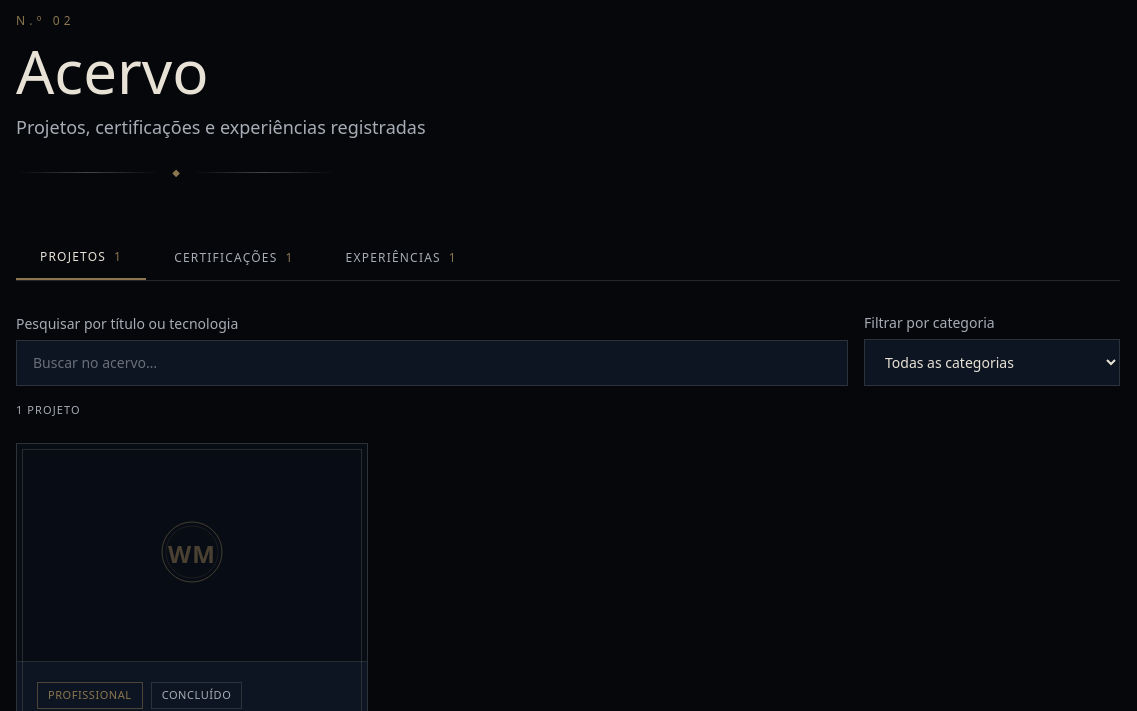
Test: ArchiveSection tabs › switches to certifications
What coordinates should you click on to do the following:
click the tab "Certificações1"
I would click on:
 (234, 258)
Its box is [150,236,318,280].
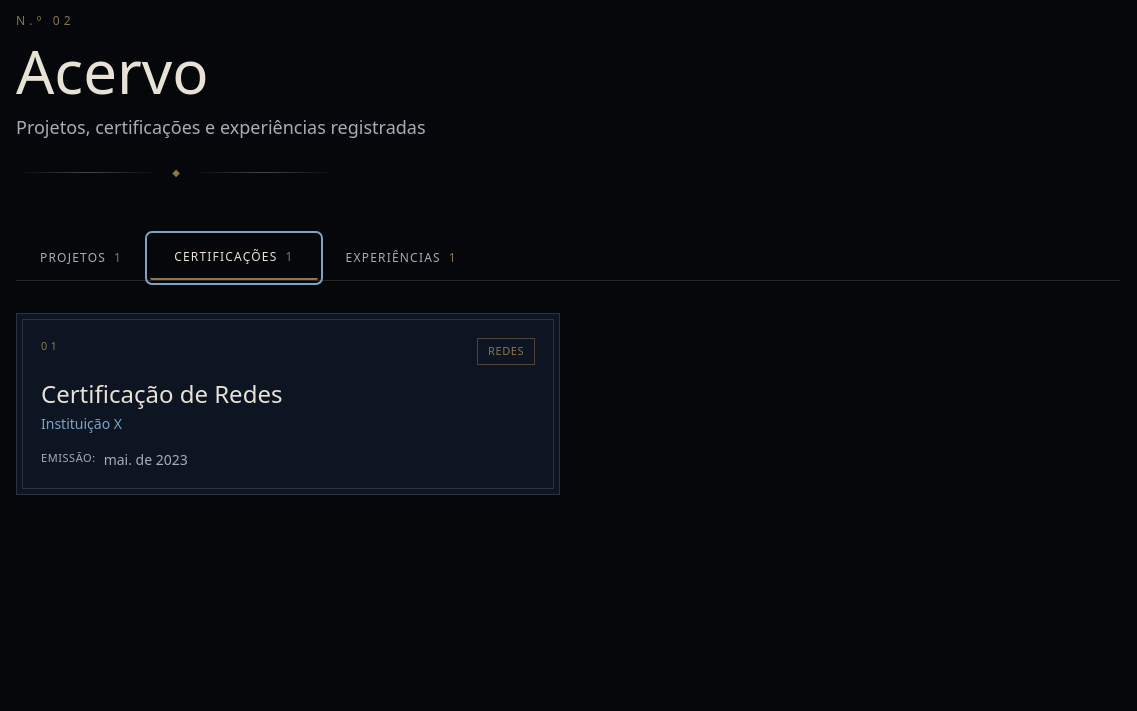
Now the heading "Certificação de Redes" is shown, box [41,376,282,410]
